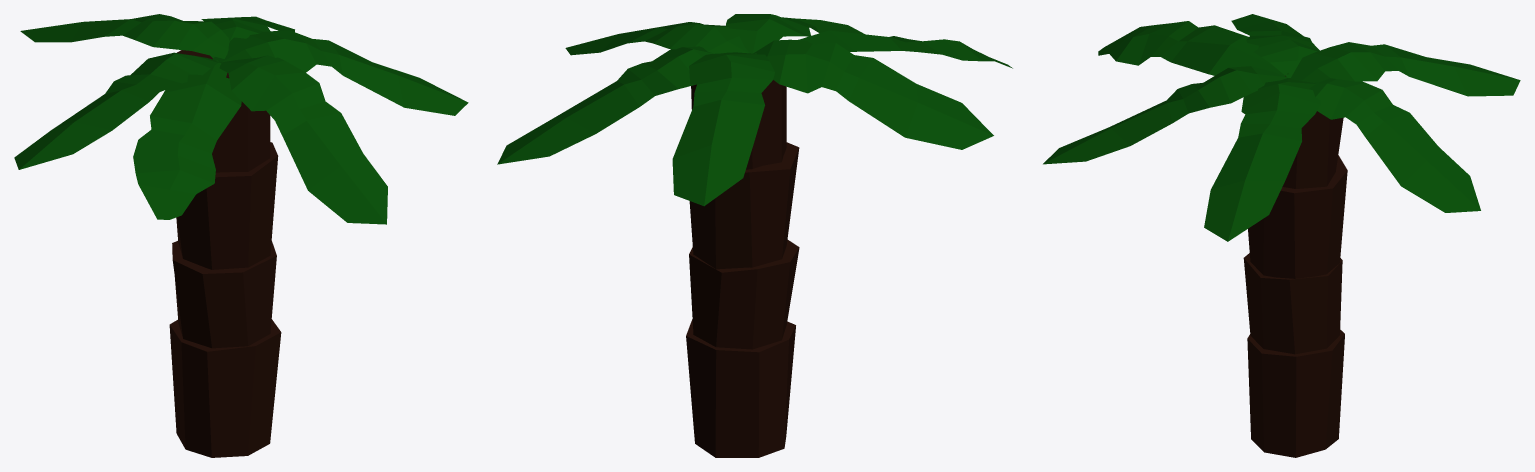
The model's file is Palmeira2.obj.
The picture shows the model from 3 angles, left to right: view 1: azimuth 30°, elevation 25°; view 2: azimuth 150°, elevation 25°; view 3: azimuth 270°, elevation 25°; orthographic projection. The views are drawn at different scales.
Parts seen in each view (by area): view 1: Palmeira.001; view 2: Palmeira.001; view 3: Palmeira.001.
Part boxes in pixels (x1,y1,x2,y2): Palmeira.001: (14, 14, 468, 457); Palmeira.001: (497, 14, 1012, 457); Palmeira.001: (1043, 14, 1520, 457).
Bounding box in the file's own units: 10.6 × 9.31 × 10.7.
